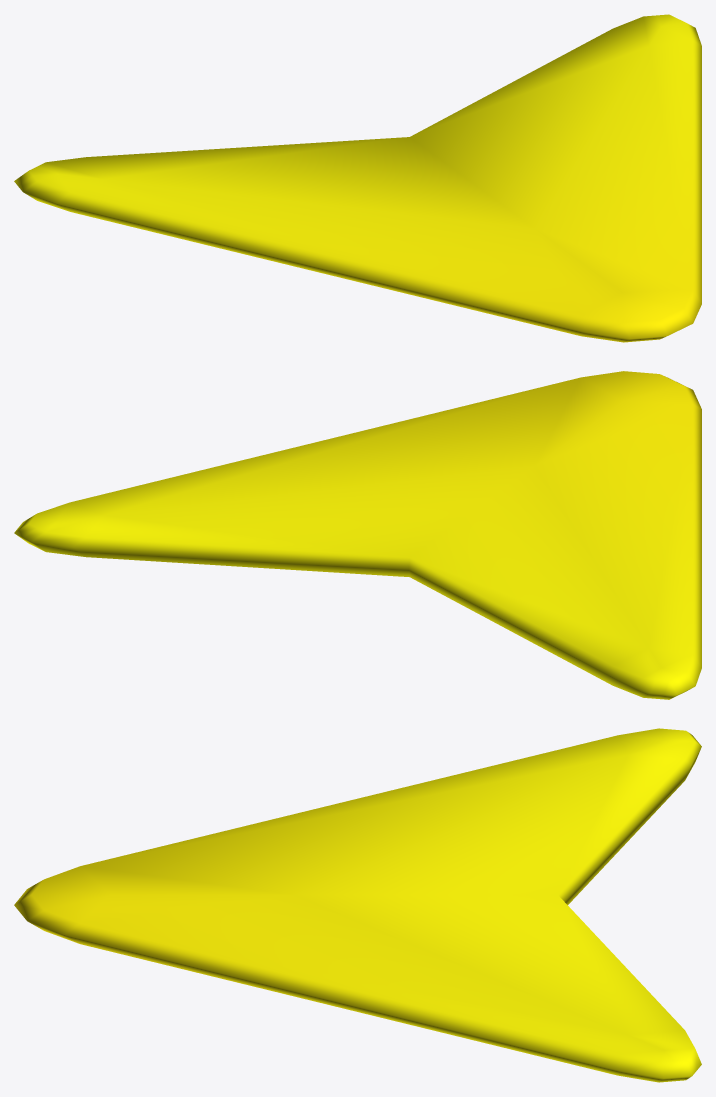
The model's file is Arrow Quest.fbx.
3 renders of one model, top to bottom at view 1: azimuth 30°, elevation 25°; view 2: azimuth 150°, elevation 25°; view 3: azimuth 270°, elevation 25°, orthographic. The views are drawn at different scales.
Visible parts, largest first — view 1: ArrowPoint; view 2: ArrowPoint; view 3: ArrowPoint.
Boxes of the visible parts, bbox=[...] form: ArrowPoint: bbox=[14, 14, 701, 342]; ArrowPoint: bbox=[14, 371, 701, 699]; ArrowPoint: bbox=[14, 728, 701, 1082].
Bounding box in the file's own units: 60.64 × 1.73 × 51.02.
